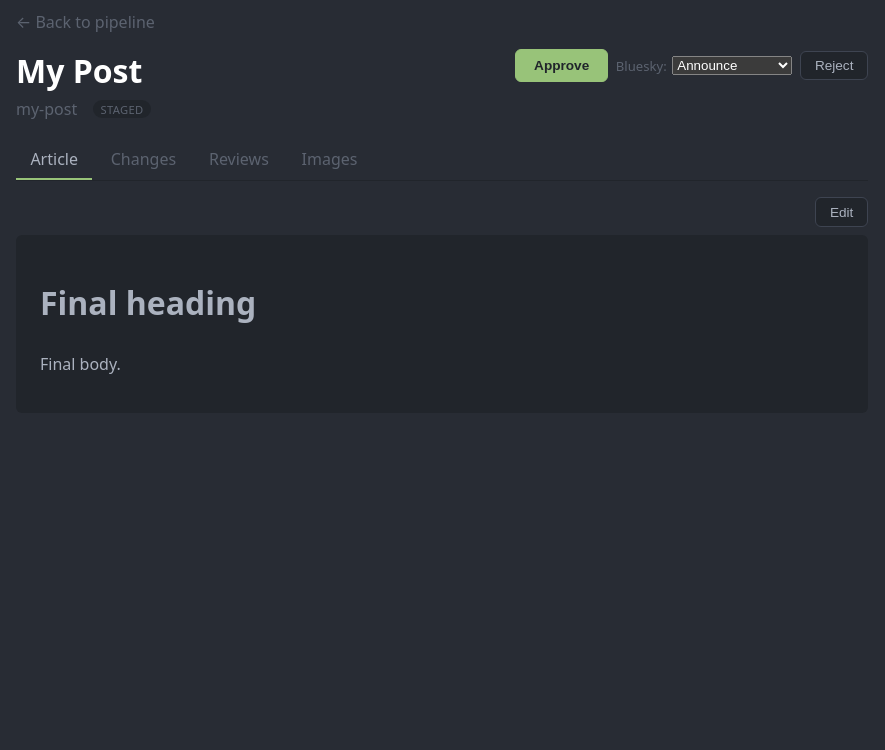
Scenario: PostDetail — actions › save & re-review passes the reReview flag
The image size is (885, 750).
Check: the heading "My Post" is shown, box [16, 49, 151, 92]
What coordinates should you click on to do the following:
click the button "Edit"
I would click on:
 (842, 212)
Its box is [815, 197, 868, 227].
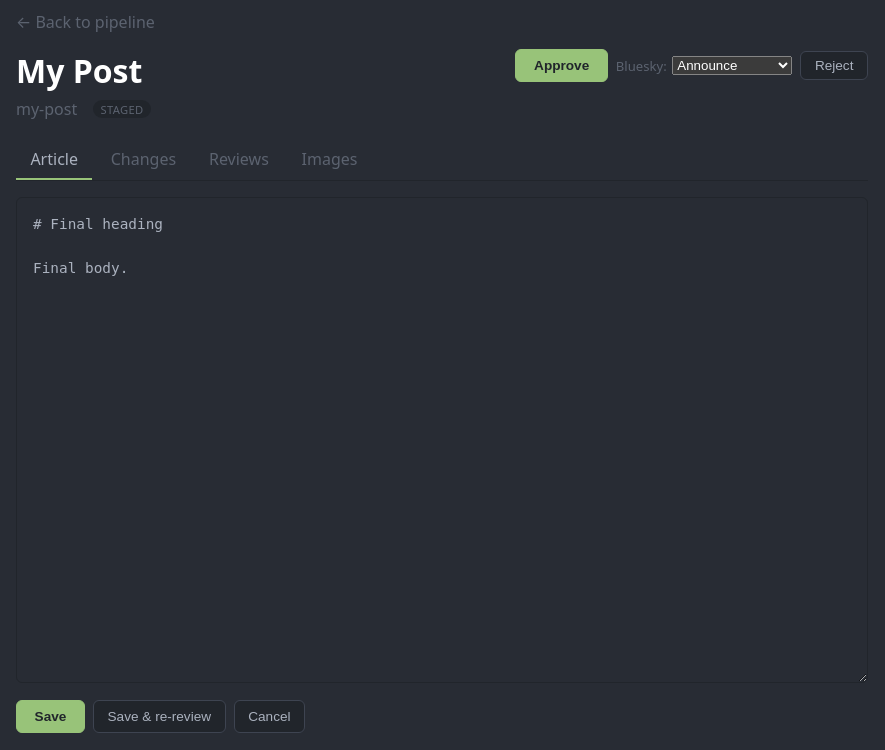
What coordinates should you click on to do the following:
click the button "Save & re-review"
I would click on:
 (159, 717)
Its box is [93, 700, 226, 733].
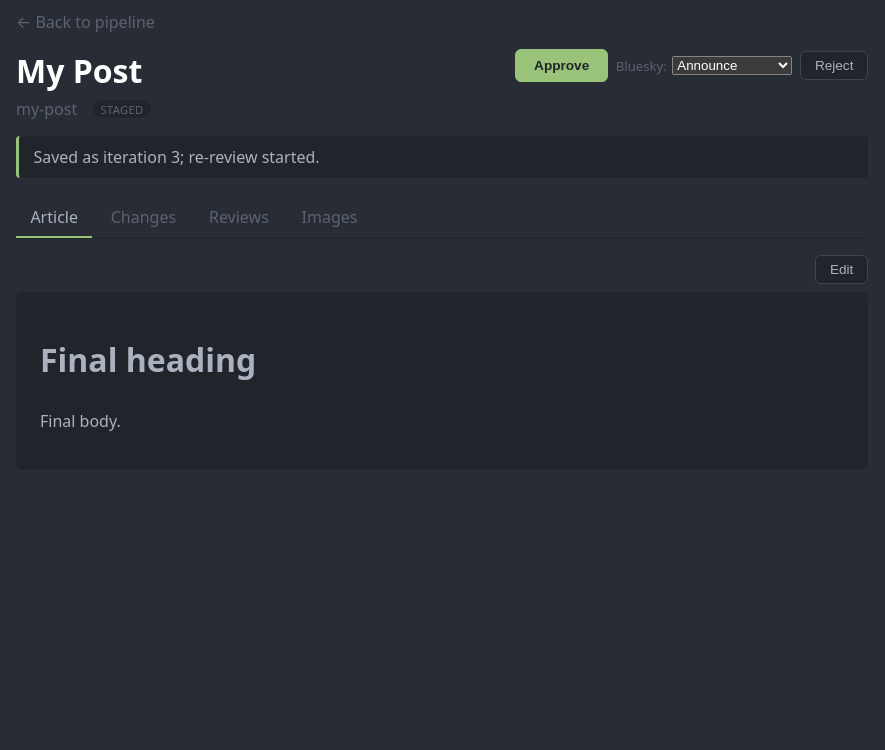
Check: the text "Saved as iteration 3; re-review started." is shown, box [16, 136, 868, 178]
